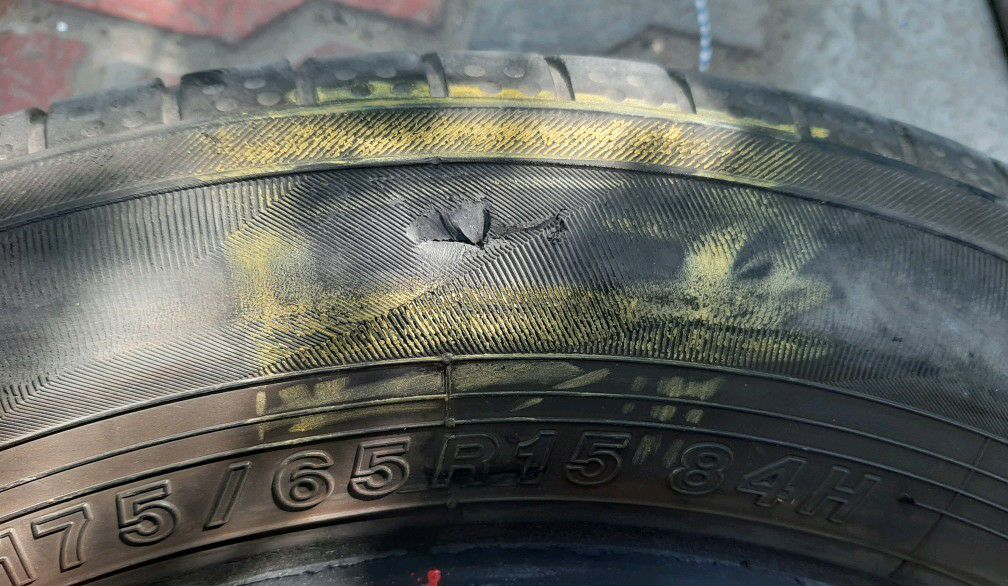cut: (422, 196, 572, 253)
